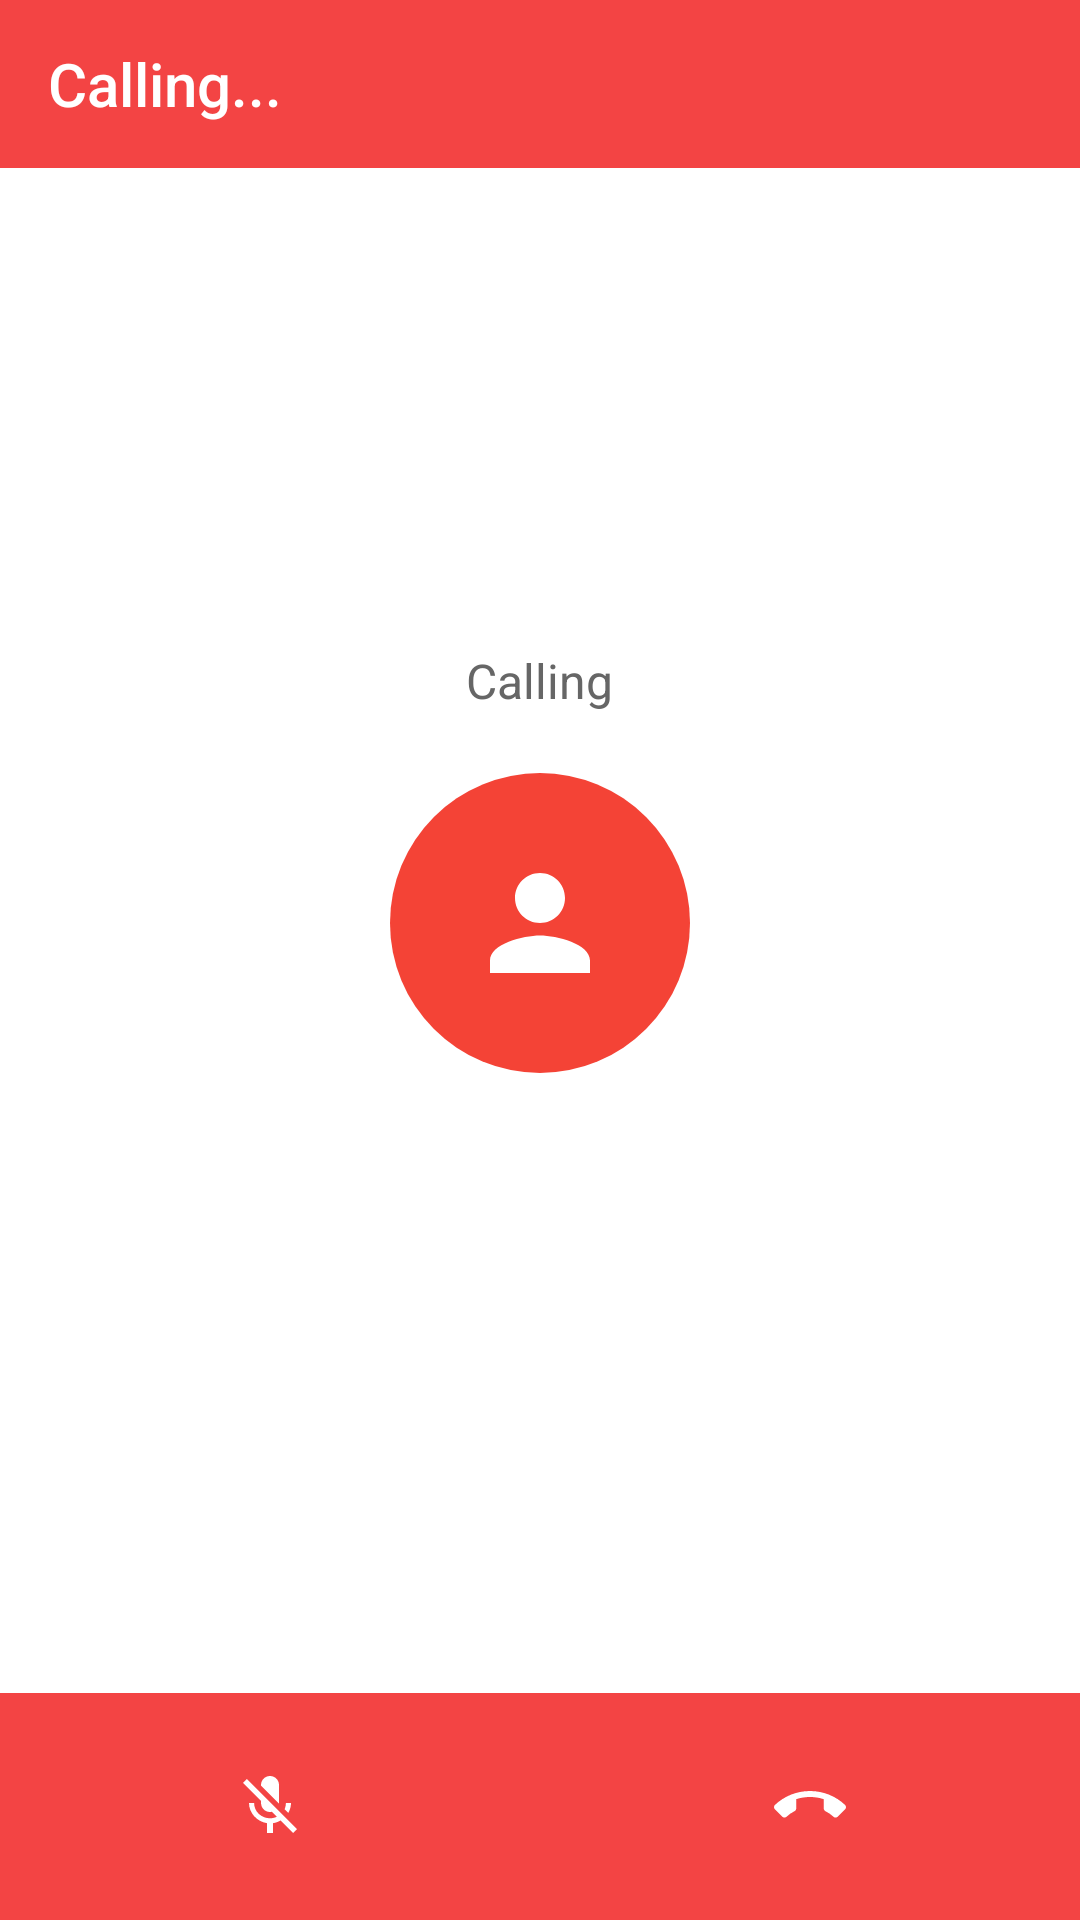

Where to tap for icons on this 1080w x 1920h app screen, as (x=x, y=y):
call end: (x=810, y=1804)
mic off: (x=270, y=1804)
person: (x=540, y=923)
